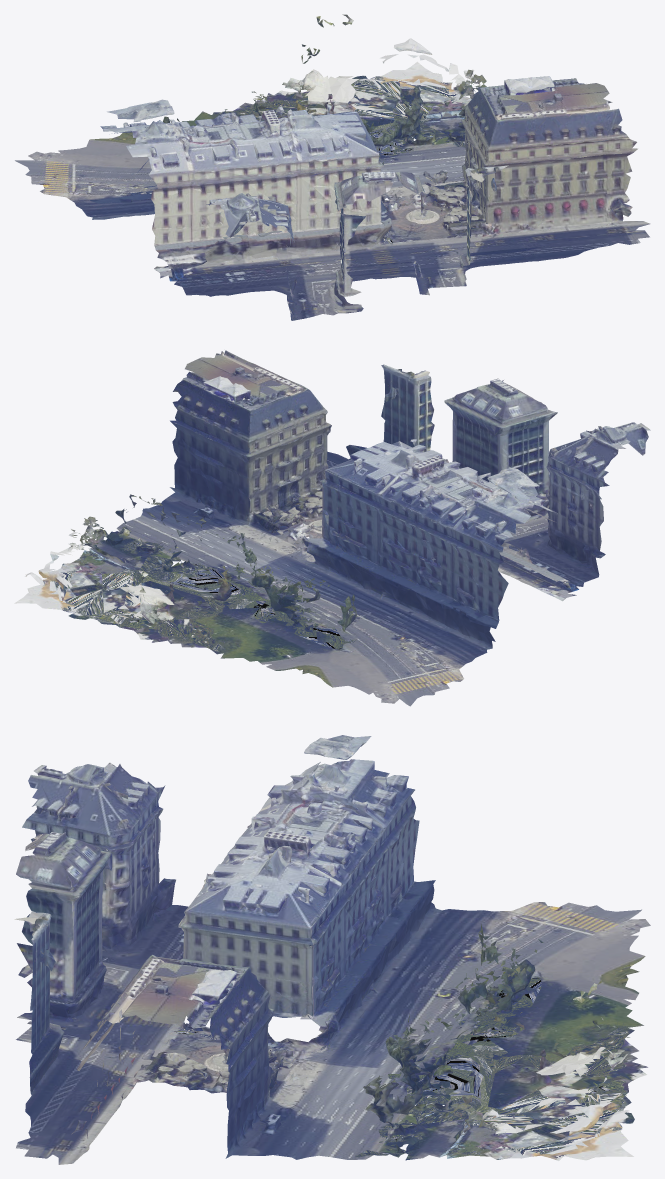
3 renders of one model, top to bottom at view 1: azimuth 30°, elevation 25°; view 2: azimuth 150°, elevation 25°; view 3: azimuth 270°, elevation 25°, orthographic. The views are drawn at different scales.
Bounding box in the file's own units: 108 × 33.75 × 108.
1 material, 1 textured.
